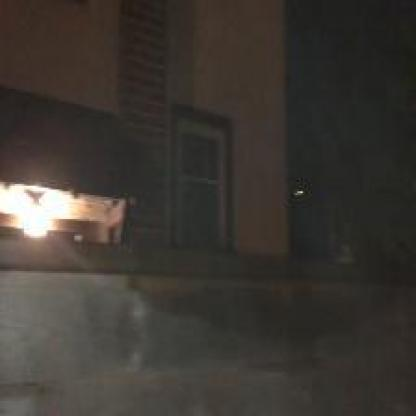other: (0, 176, 85, 252)
